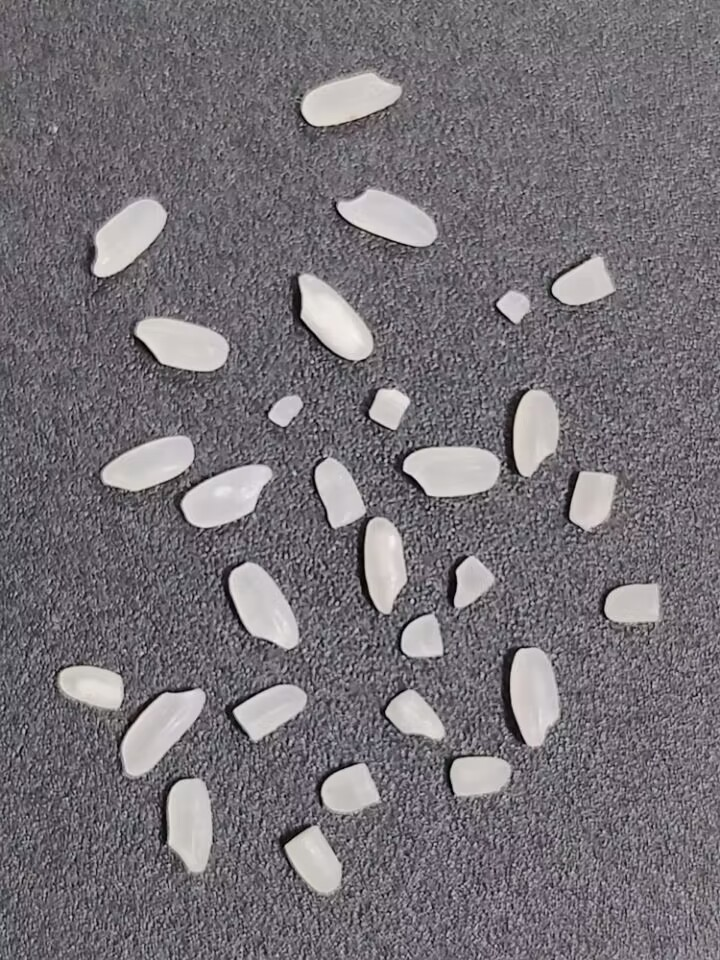broken: (231, 680, 308, 744), (282, 824, 346, 897), (312, 456, 366, 531), (382, 687, 448, 746), (318, 760, 383, 816), (550, 253, 615, 307), (53, 664, 126, 709), (566, 468, 618, 531), (445, 755, 513, 801), (394, 610, 450, 662), (450, 553, 497, 613), (604, 581, 664, 624), (263, 389, 304, 435), (366, 388, 410, 430), (495, 287, 533, 327)
rice: (117, 682, 209, 782), (225, 560, 302, 654), (295, 272, 374, 361), (334, 184, 437, 251), (178, 459, 275, 529), (90, 197, 169, 282), (300, 68, 403, 129), (98, 430, 195, 494), (399, 445, 502, 501), (508, 645, 562, 750), (133, 316, 229, 374), (357, 514, 409, 619), (164, 775, 214, 876), (511, 389, 560, 478)
